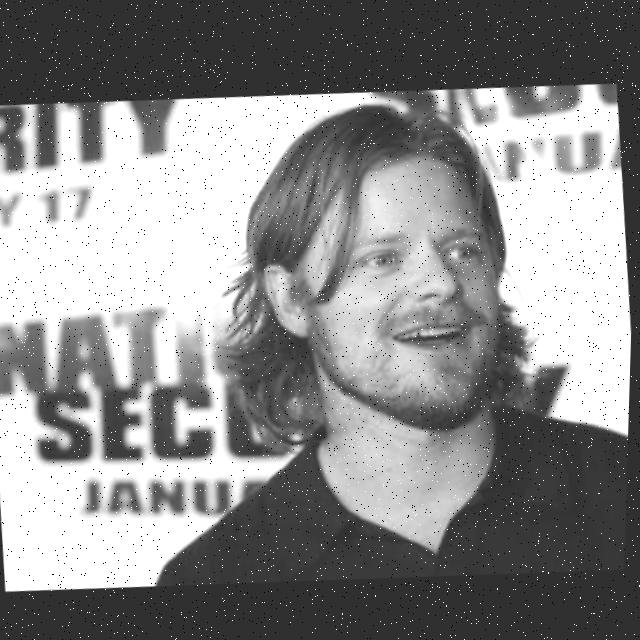face: (314, 150, 520, 440)
